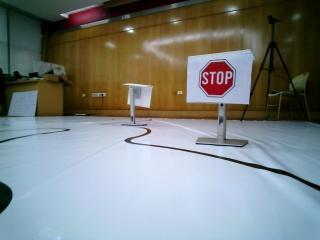stop: (189, 57, 246, 100)
